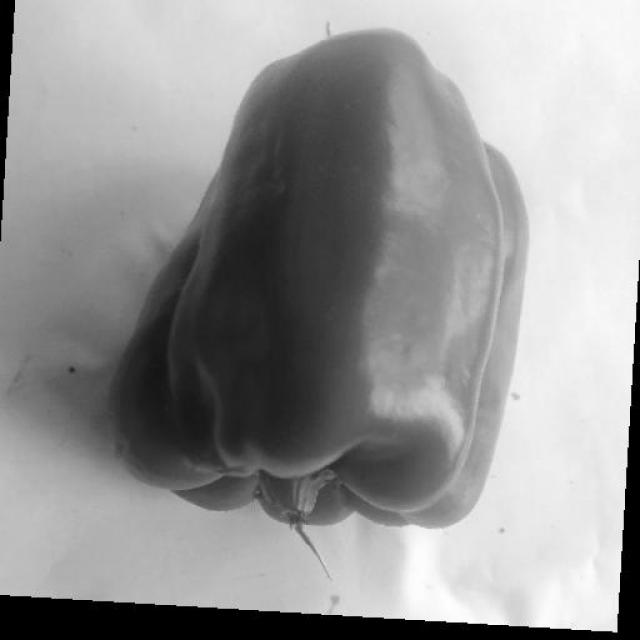Fresh_Capsicum: (154, 39, 528, 538)
